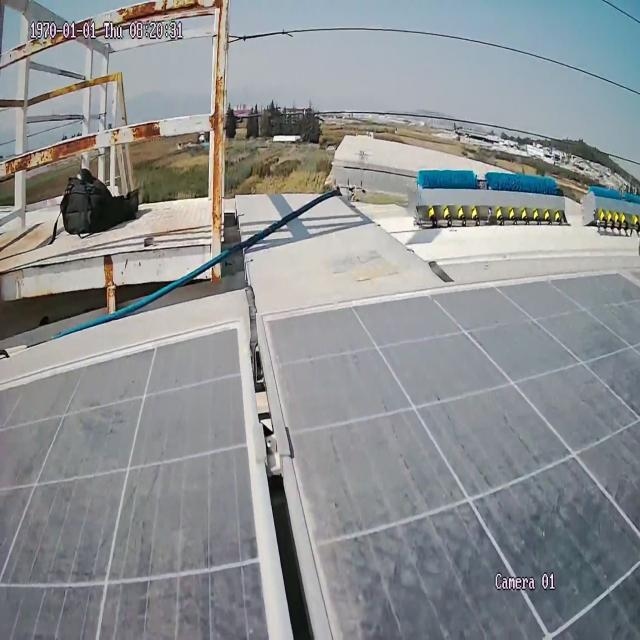interior panel: (186, 287, 386, 640)
outher panel: (0, 0, 640, 345)
